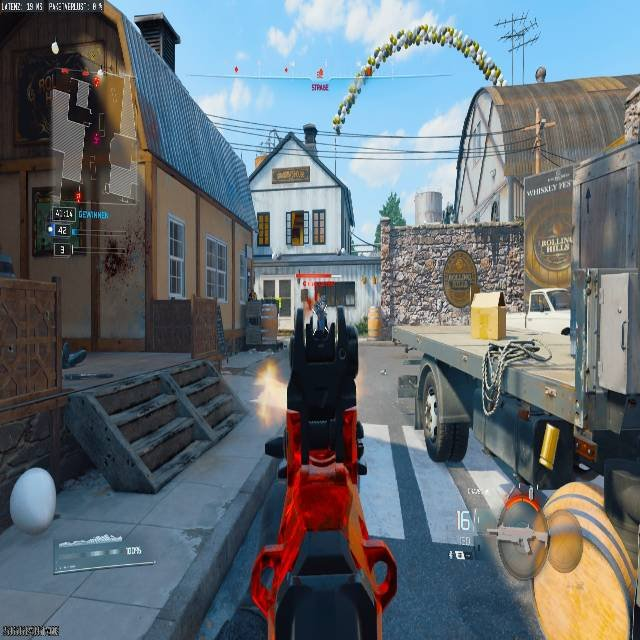head: (320, 296, 326, 304)
player: (314, 297, 327, 332), (534, 65, 547, 82)
